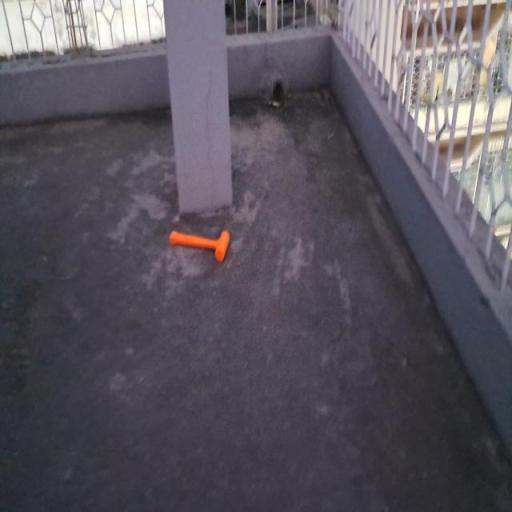mallet: (168, 227, 228, 263)
